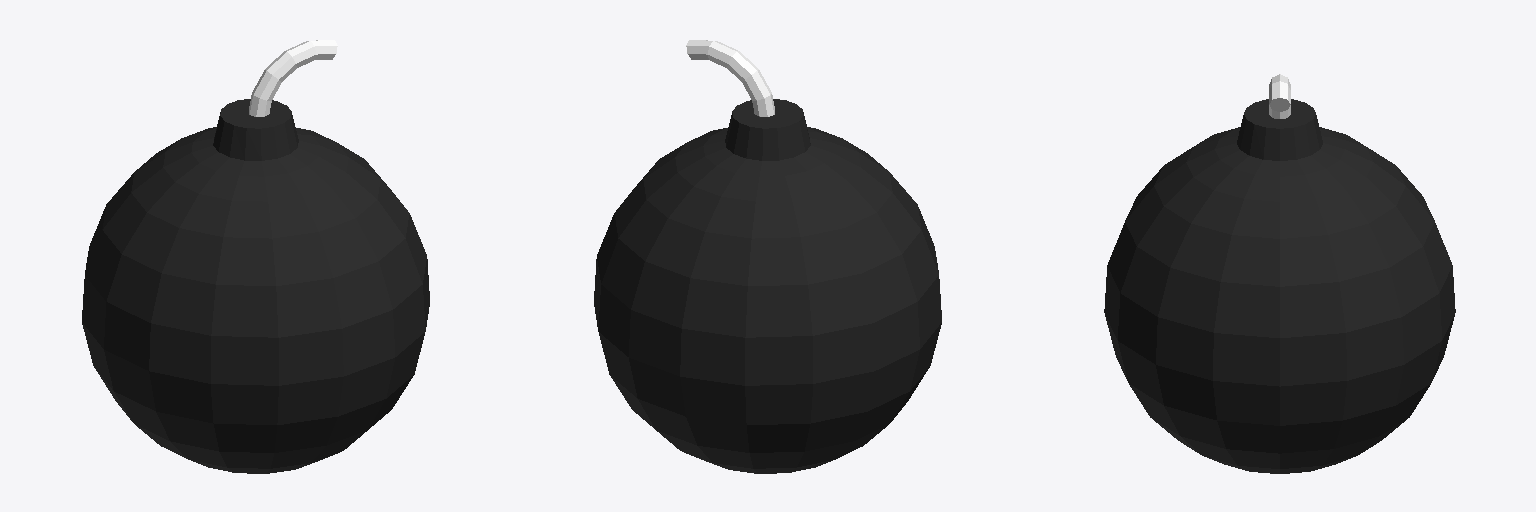
File: bomb.obj
3 views of the same model, side by side, from view 1: azimuth 30°, elevation 25°; view 2: azimuth 150°, elevation 25°; view 3: azimuth 270°, elevation 25° (orthographic).
Visible parts, largest first — view 1: bomb, fuse; view 2: bomb, fuse; view 3: bomb, fuse.
Part boxes in pixels (left/top/right/bottom): bomb: left=82, top=99, right=429, bottom=473; fuse: left=249, top=40, right=337, bottom=116; bomb: left=594, top=99, right=941, bottom=473; fuse: left=686, top=40, right=774, bottom=116; bomb: left=1104, top=99, right=1455, bottom=473; fuse: left=1269, top=74, right=1290, bottom=118.
Bounding box in the file's own units: 8.11 × 10.27 × 8.11.